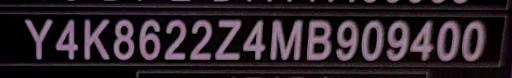letter: (268, 17, 304, 59), (81, 16, 111, 62), (212, 17, 244, 59), (22, 17, 54, 59), (460, 18, 488, 62), (241, 17, 269, 59), (304, 18, 332, 60), (434, 18, 462, 60), (333, 19, 361, 61), (359, 17, 385, 61), (409, 17, 435, 61), (384, 18, 410, 62), (137, 15, 161, 61), (188, 17, 214, 59), (54, 18, 80, 60), (112, 17, 136, 61), (163, 17, 187, 61)
